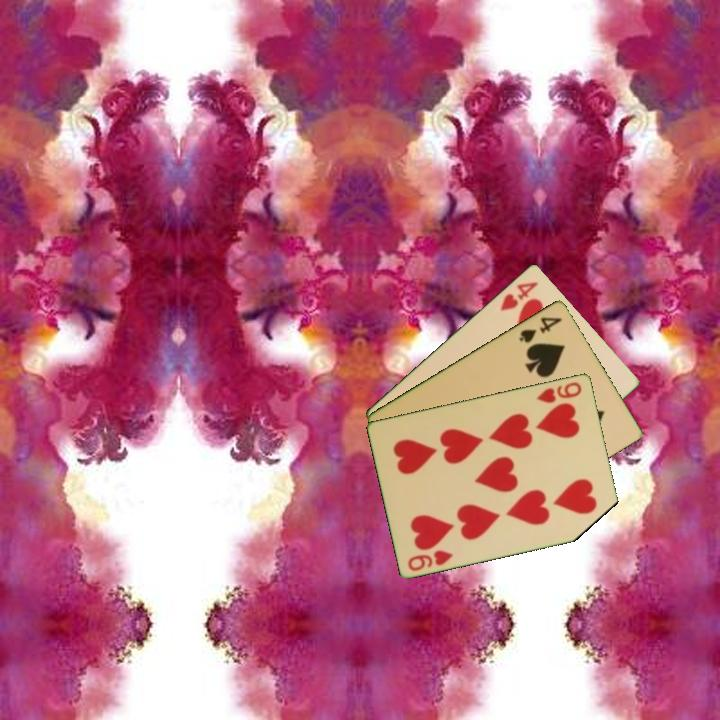4h: (497, 278, 541, 313)
4s: (515, 313, 565, 346)
9h: (533, 378, 585, 406), (404, 546, 456, 574)
